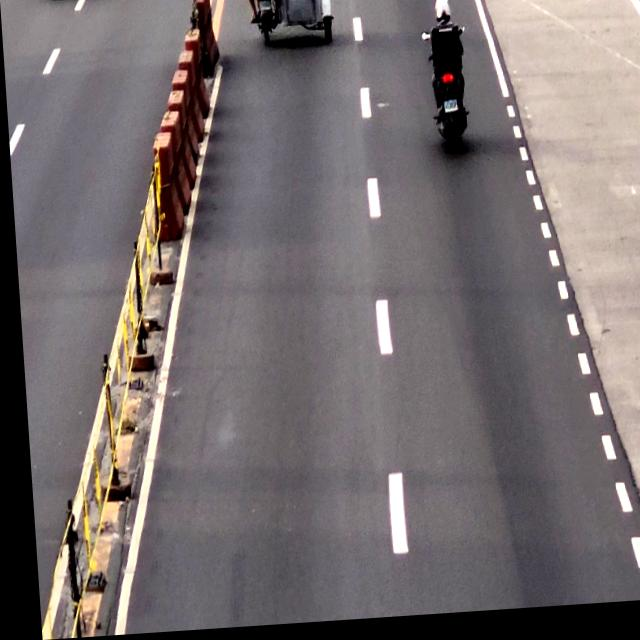License-Plate: (441, 106, 457, 119)
Motorcycle: (425, 0, 471, 155)
